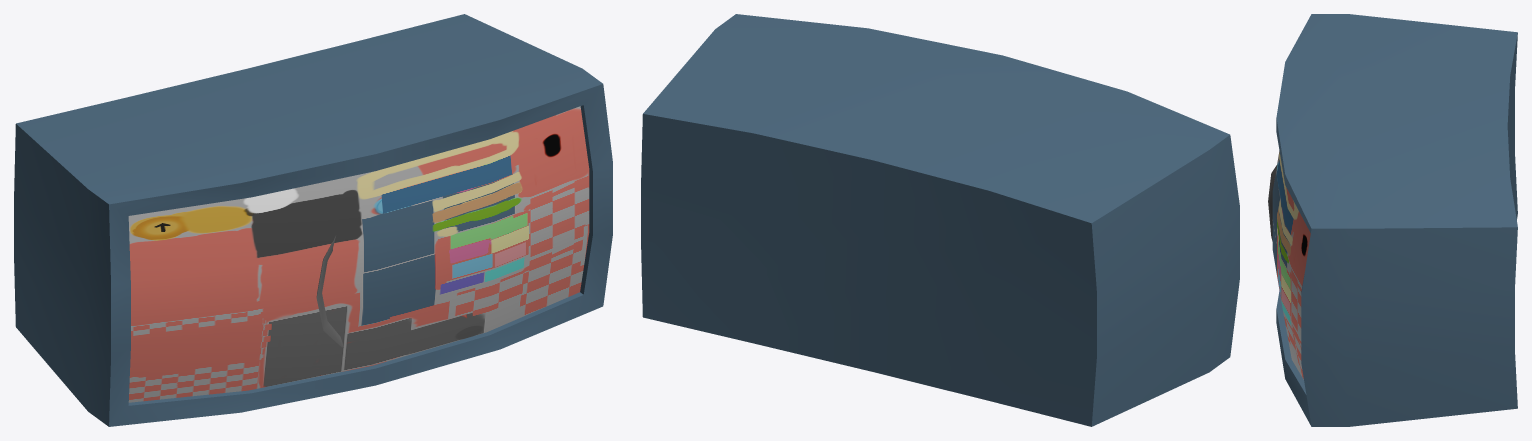
Rendered from machine_tv.FBX.
The picture shows the model from 3 angles, left to right: view 1: azimuth 30°, elevation 25°; view 2: azimuth 150°, elevation 25°; view 3: azimuth 270°, elevation 25°; orthographic projection. The views are drawn at different scales.
Visible parts, largest first — view 1: machine_tv, machine_tvscreen, machine_tvspeaker; view 2: machine_tv; view 3: machine_tv, machine_tvscreen, machine_tvspeaker.
Part boxes in pixels (x1,y1,x2,y2): machine_tv: [14, 14, 612, 426]; machine_tvscreen: [128, 106, 589, 402]; machine_tvspeaker: [316, 236, 343, 347]; machine_tv: [641, 14, 1239, 426]; machine_tv: [1276, 14, 1517, 426]; machine_tvscreen: [1272, 151, 1310, 379]; machine_tvspeaker: [1268, 164, 1277, 241].
Bounding box in the file's own units: 308 × 136 × 149.
1 material, 1 textured.
